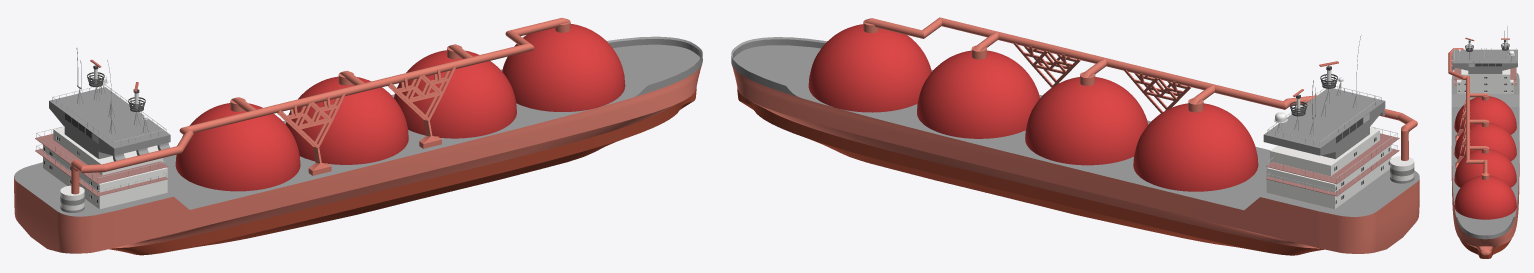
Rendered from oiltnk.glb.
3 views of the same model, side by side, from view 1: azimuth 30°, elevation 25°; view 2: azimuth 150°, elevation 25°; view 3: azimuth 270°, elevation 25° (orthographic). The views are drawn at different scales.
Visible parts, largest first — view 1: hull.001, ball_4, ball_1, ball_2, ball_3, pipeline, bridge.002, middle.001, support_1.001, support_2.001, top_deck.001, bottom_deck.001; view 2: hull.001, ball_1, ball_2, ball_3, ball_4, pipeline, bridge.002, middle.001, top_deck.001, support_2.001, support_1.001, bottom_deck.001; view 3: hull.001, ball_4, bridge.002, ball_3, ball_2, ball_1, middle.001, pipeline, support_1.001, support_2.001, top_deck.001, basket_1 (1).001 (+1 smaller).
Boxes of the visible parts, x1,y1,x2,y2 form: hull.001: (14,36,702,255); ball_4: (502,24,625,111); ball_1: (175,103,300,191); ball_2: (285,76,408,164); ball_3: (394,50,516,138); pipeline: (71,18,570,194); bridge.002: (49,87,170,158); middle.001: (43,126,167,209); support_1.001: (277,93,345,175); support_2.001: (388,66,455,148); top_deck.001: (35,133,168,184); bottom_deck.001: (35,148,167,196); hull.001: (731,37,1419,255); ball_1: (1133,103,1258,191); ball_2: (1025,77,1148,165); ball_3: (917,50,1039,138); ball_4: (808,24,931,112); pipeline: (863,17,1417,160); bridge.002: (1263,88,1385,159); middle.001: (1266,127,1391,209); top_deck.001: (1266,133,1399,183); support_2.001: (1014,42,1080,87); support_1.001: (1124,70,1191,113); bottom_deck.001: (1266,148,1399,196); hull.001: (1451,73,1519,258); ball_4: (1454,175,1516,219); bridge.002: (1452,49,1517,74); ball_3: (1454,149,1516,187); ball_2: (1454,122,1516,161); ball_1: (1454,96,1516,134); middle.001: (1457,69,1513,94); pipeline: (1448,48,1489,179); support_1.001: (1455,100,1470,142); support_2.001: (1455,127,1470,169); top_deck.001: (1454,67,1516,79); basket_1 (1).001: (1501,43,1509,50).
Bounding box in the file's own units: 32.93 × 9.83 × 6.18.
